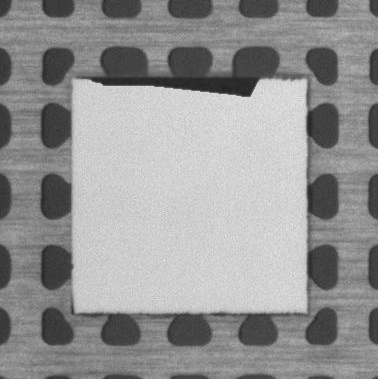DIE_BROKEN: (84, 71, 253, 101)
